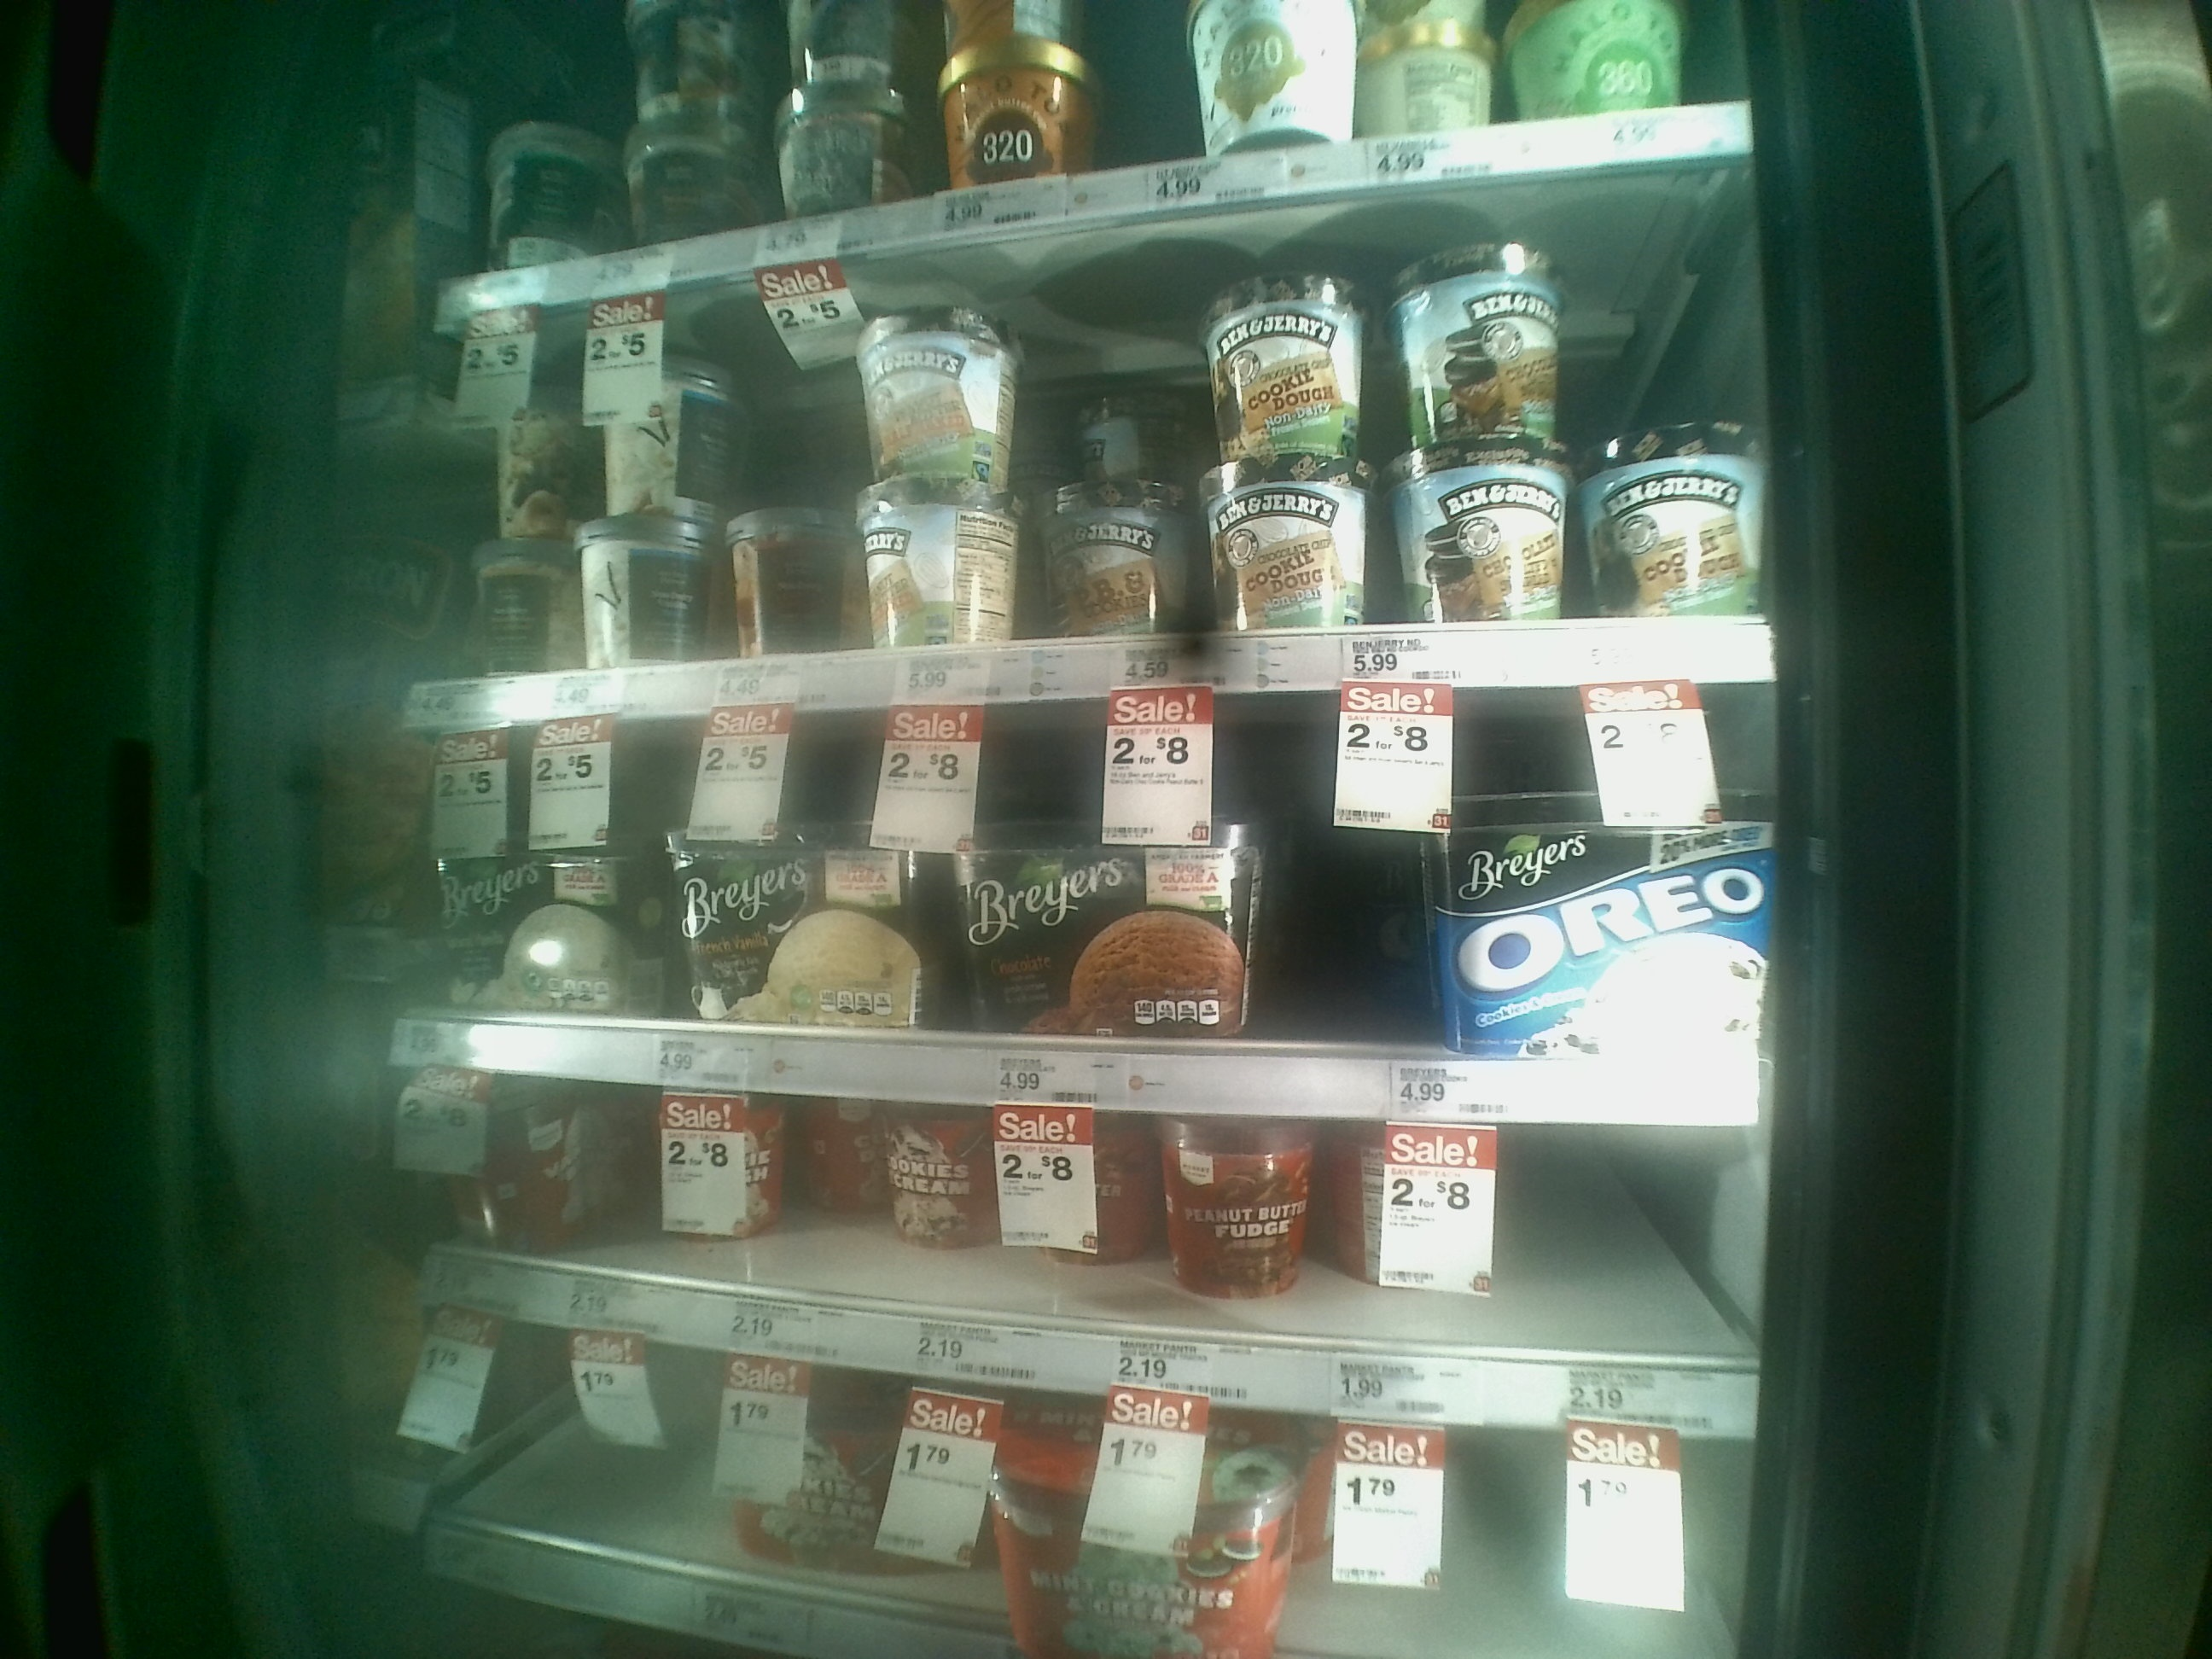ice-cream-shelf: (406, 688, 1777, 1110)
